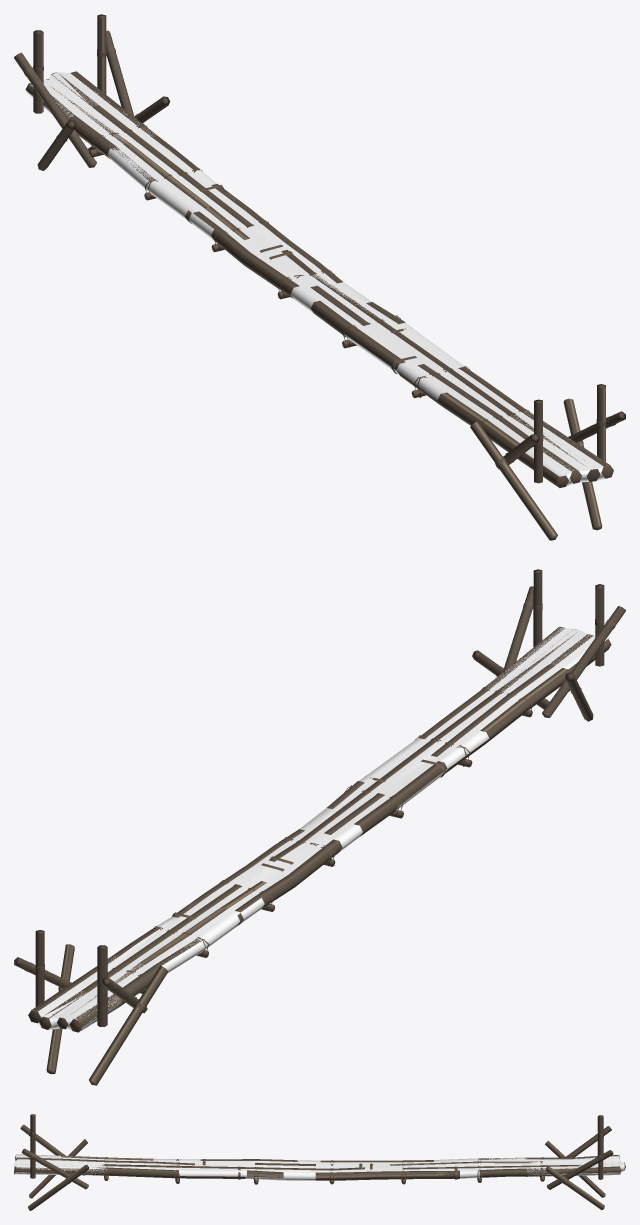
Rendered from objects_un_log_bridge03.gltf.
3 renders of one model, top to bottom at view 1: azimuth 30°, elevation 25°; view 2: azimuth 150°, elevation 25°; view 3: azimuth 270°, elevation 25°, orthographic. The views are drawn at different scales.
Parts seen in each view (by area): view 1: um_objects_un_log_bridge03_model_lod0Shape:objects_un_log_br (×2); view 2: um_objects_un_log_bridge03_model_lod0Shape:objects_un_log_br (×2); view 3: um_objects_un_log_bridge03_model_lod0Shape:objects_un_log_br (×2).
Part boxes in pixels (<box>): um_objects_un_log_bridge03_model_lod0Shape:objects_un_log_br (×2): <box>14,14,625,540</box>; um_objects_un_log_bridge03_model_lod0Shape:objects_un_log_br (×2): <box>14,569,625,1085</box>; um_objects_un_log_bridge03_model_lod0Shape:objects_un_log_br (×2): <box>14,1114,625,1210</box>.
Size of what is drawn, in the model's own units: 6.19 by 7.71 by 53.45.
2 materials, 1 textured.
